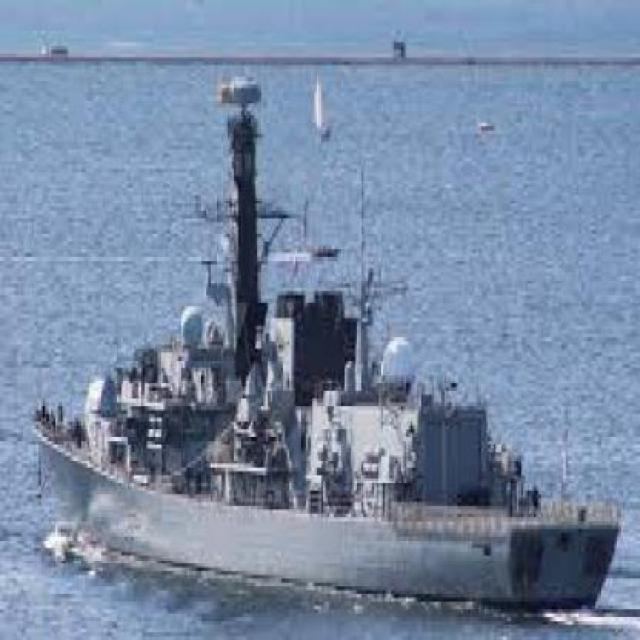warship2: (16, 58, 631, 618)
